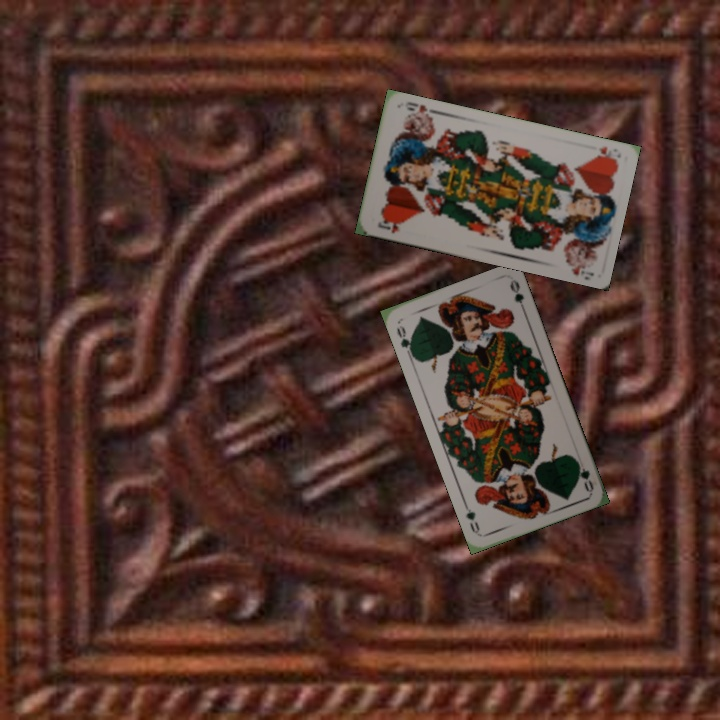GO: (571, 455, 596, 494), (392, 321, 415, 359)
HO: (374, 215, 407, 235), (590, 142, 620, 164)
